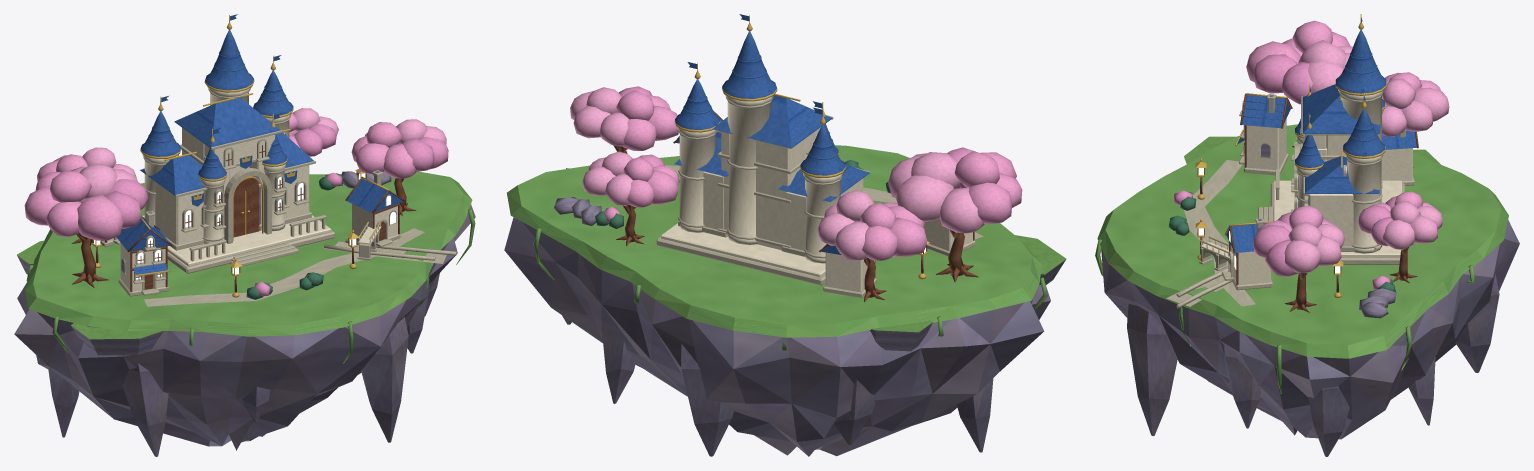
The model's file is royal-island-right-balanced.glb.
3 renders of one model, left to right at view 1: azimuth 30°, elevation 25°; view 2: azimuth 150°, elevation 25°; view 3: azimuth 270°, elevation 25°, orthographic. The views are drawn at different scales.
Parts seen in each view (by area): view 1: royal-island-right; view 2: royal-island-right; view 3: royal-island-right.
Boxes of the visible parts, <box> form: royal-island-right: <box>14,14,475,456</box>; royal-island-right: <box>504,14,1066,456</box>; royal-island-right: <box>1095,14,1519,456</box>.
Size of the model in its own units: 18.17 by 14.97 by 13.7.
10 materials, 10 textured.
